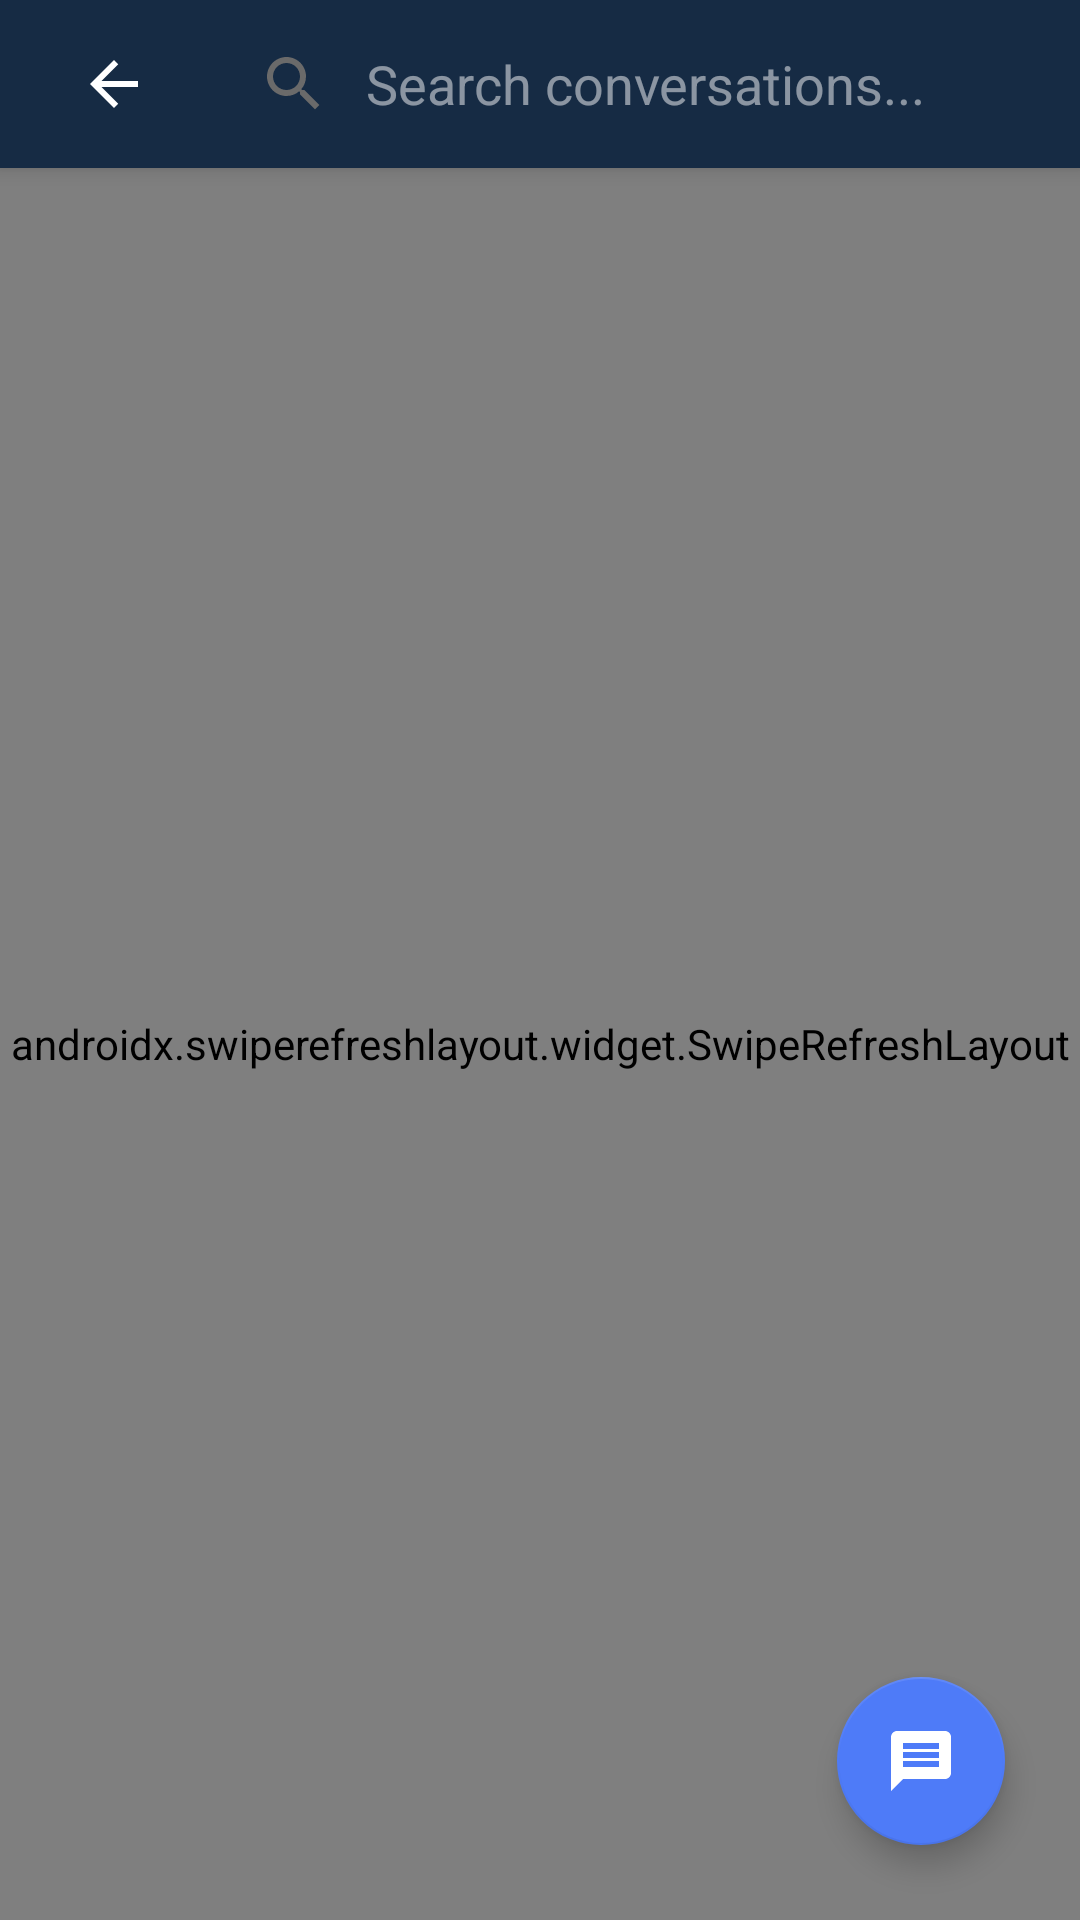

Where icons sit on this 1080px×1920px app screen, as (x1, y1, x2, y2):
backbutton: (90, 60, 138, 108)
New message: (837, 1677, 1005, 1845)
